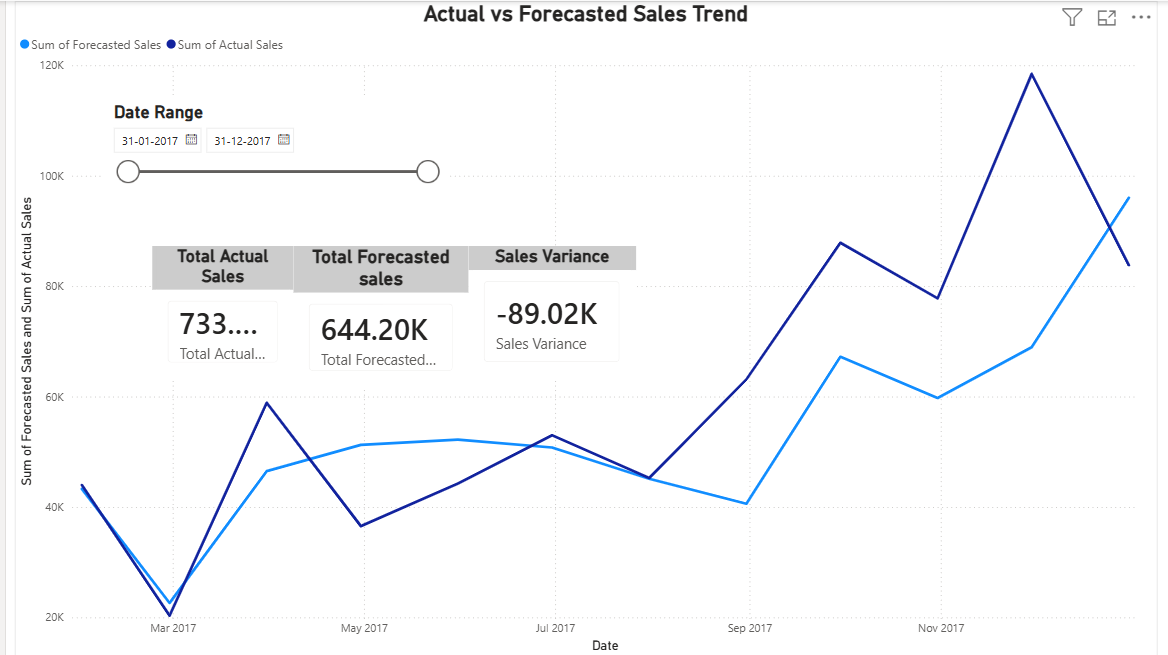

Layout of this report page (visuals, bound fields, positions):
{"tool":"powerbi","page":{"name":"Page 1","canvas":[1280,720],"ordinal":0},"visuals":[{"type":"lineChart","title":"Actual vs Forecasted Sales Trend","fields":{"Category":["sales_forecast_output.Date"],"Y":["Sum(sales_forecast_output.Forecasted Sales)","Sum(sales_forecast_output.Actual Sales)"]},"box":[9.6,0,1254.2,720.4],"z":0},{"type":"slicer","fields":{"Values":["sales_forecast_output.Date"]},"box":[105.7,105.7,378.7,196.2],"z":1000},{"type":"cardVisual","title":"Total Actual Sales","fields":{"Data":["sales_forecast_output.Total Actual Sales"]},"box":[160.5,269,155.1,145.5],"z":2000},{"type":"cardVisual","title":"Sales Variance ","fields":{"Data":["sales_forecast_output.Sales Variance"]},"box":[507.7,269,183.9,145.5],"z":3000},{"type":"cardVisual","title":"Total Forecasted sales","fields":{"Data":["sales_forecast_output.Total Forecasted Sales"]},"box":[315.6,269,192.1,155.1],"z":4000}]}

Visuals, with their boxes in screenshot pixels (x1, y1, x2, y2), scaled from the page's 1280x720 canvas onto the 1168x655 screenshot:
"Actual vs Forecasted Sales Trend" lineChart: bbox(9, 0, 1153, 654)
slicer - sales_forecast_output.Date: bbox(96, 96, 442, 275)
"Total Actual Sales" cardVisual: bbox(146, 245, 288, 377)
"Sales Variance " cardVisual: bbox(463, 245, 631, 377)
"Total Forecasted sales" cardVisual: bbox(288, 245, 463, 386)
